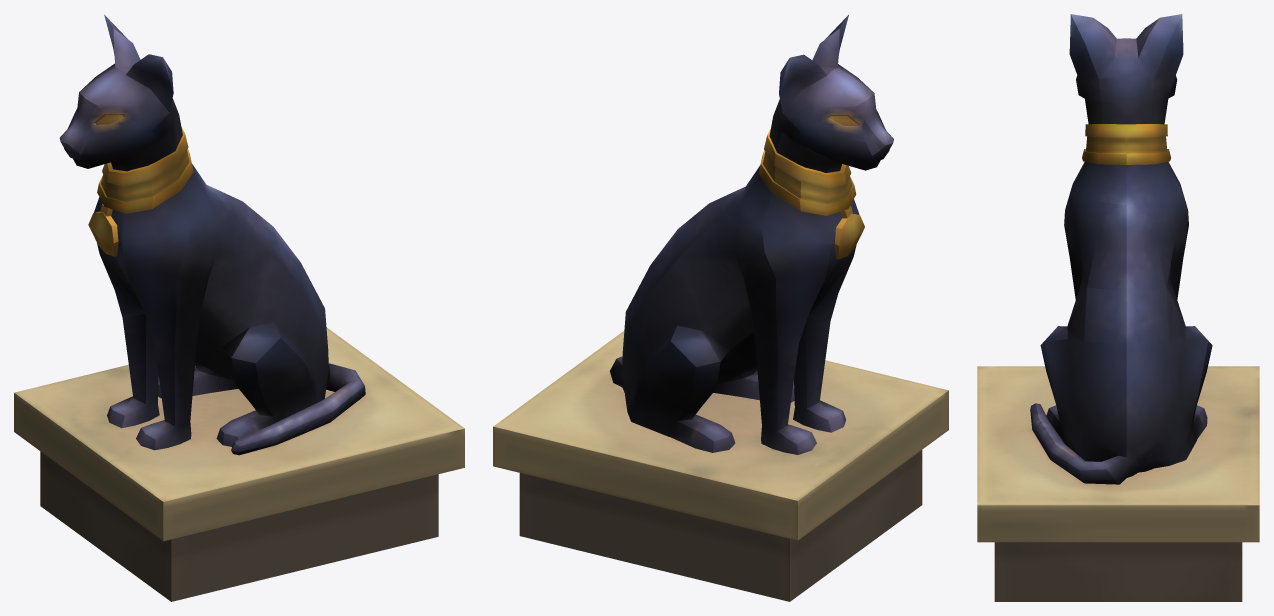
File: Obstacles_Cat.fbx
The picture shows the model from 3 angles, left to right: view 1: azimuth 30°, elevation 25°; view 2: azimuth 150°, elevation 25°; view 3: azimuth 270°, elevation 25°; orthographic projection. The views are drawn at different scales.
Visible parts, largest first — view 1: Obstacle_Cat; view 2: Obstacle_Cat; view 3: Obstacle_Cat.
Boxes of the visible parts, x1,y1,x2,y2 form: Obstacle_Cat: (14, 14, 464, 601); Obstacle_Cat: (493, 15, 948, 601); Obstacle_Cat: (977, 14, 1259, 601).
Bounding box in the file's own units: 825 × 1229 × 656.
